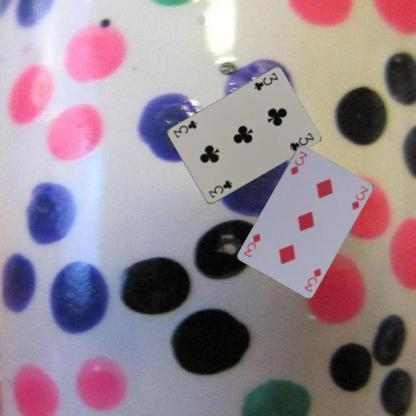3c: (251, 70, 280, 92), (206, 178, 233, 200)
3d: (288, 148, 310, 176), (302, 265, 322, 292)
